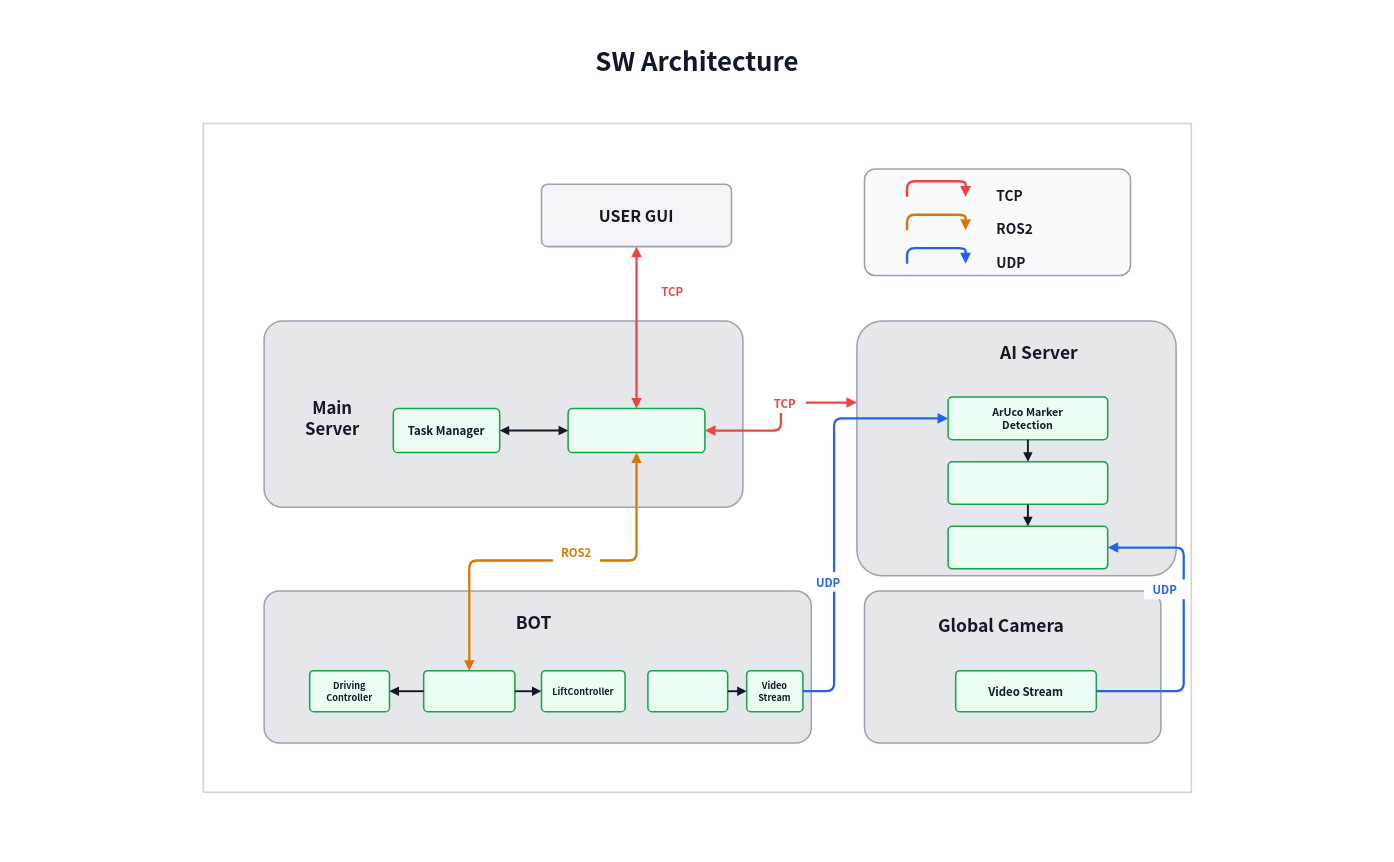
Some shapes in this 1394 by 862 pixel diagram are drawn without their labels. The centre of each missing label's shape, as x and y in pixels:
Camera (OpenCV): (687,691)
Human Detection: (1027,547)
Network Manager: (636,430)
Obstacle Detection: (1027,483)
Path Planner (NAV2): (469,691)
